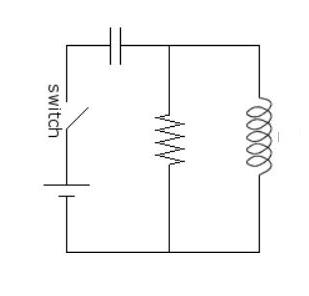resistor: (141, 98, 192, 180)
